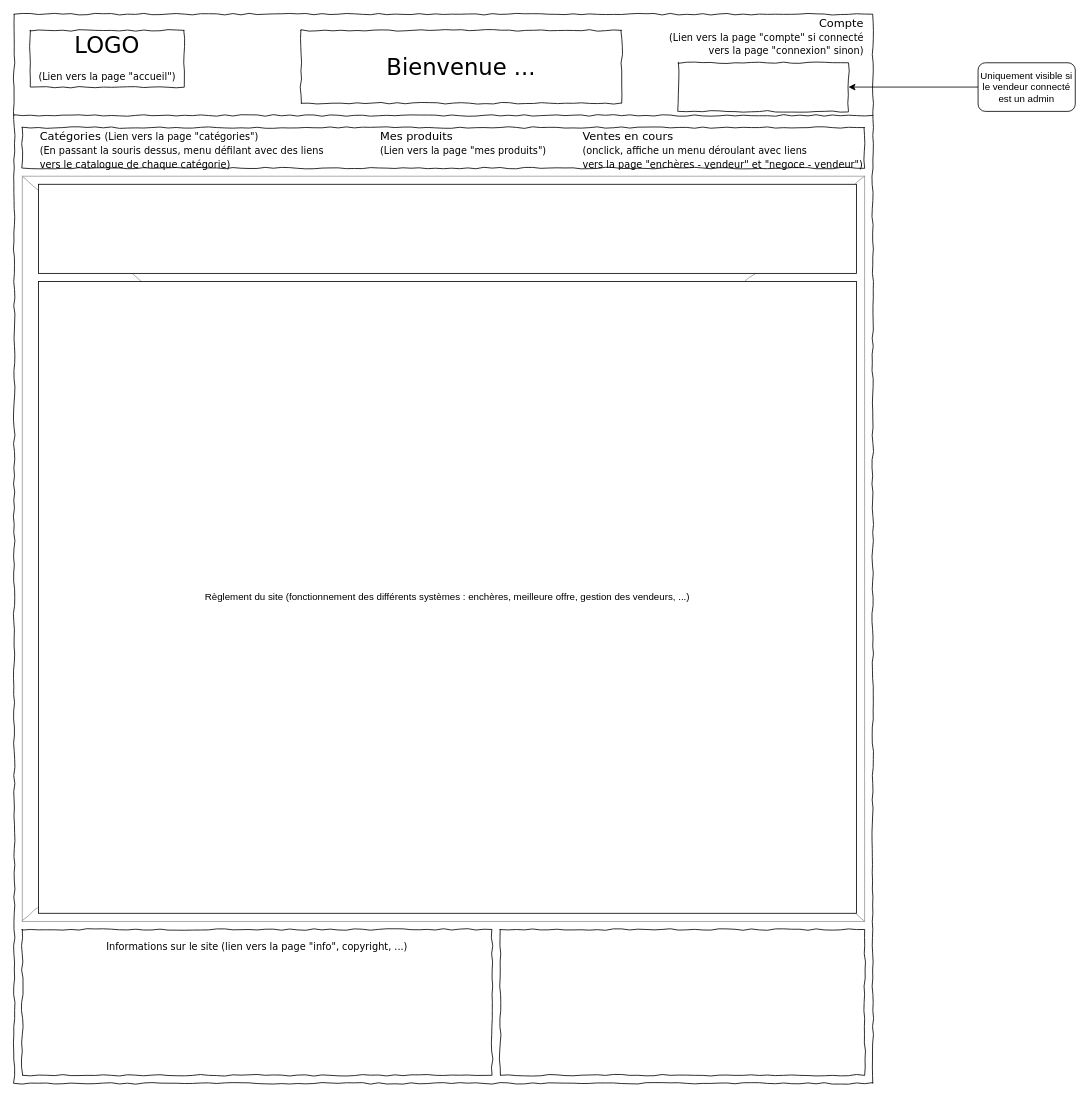
Some shapes in this 1089 by 1098 pixel diagram are drawn without their labels. The box of each missing label's shape, as (x1, y1, x2, y2) in pixels:
Admin (Lien vers la page "liste vendeur"): (678, 62, 848, 111)
Infos sur la création du site: (38, 183, 857, 273)
Nous contacter: (499, 929, 865, 1075)
